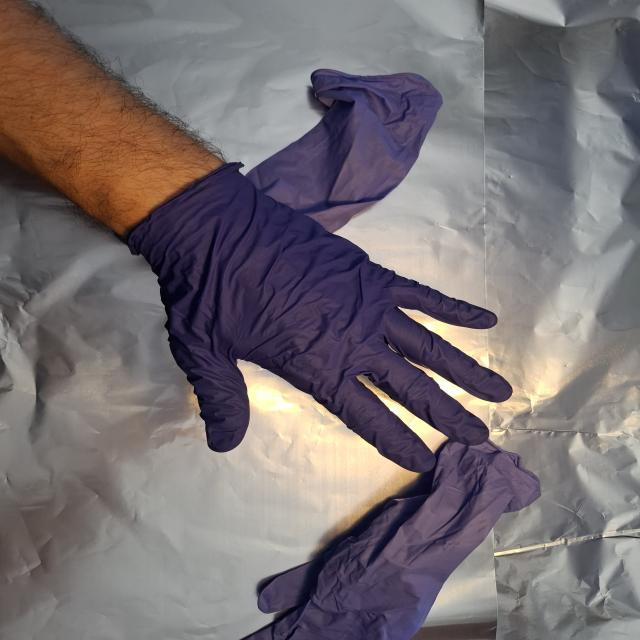glove_on: (122, 162, 516, 476)
